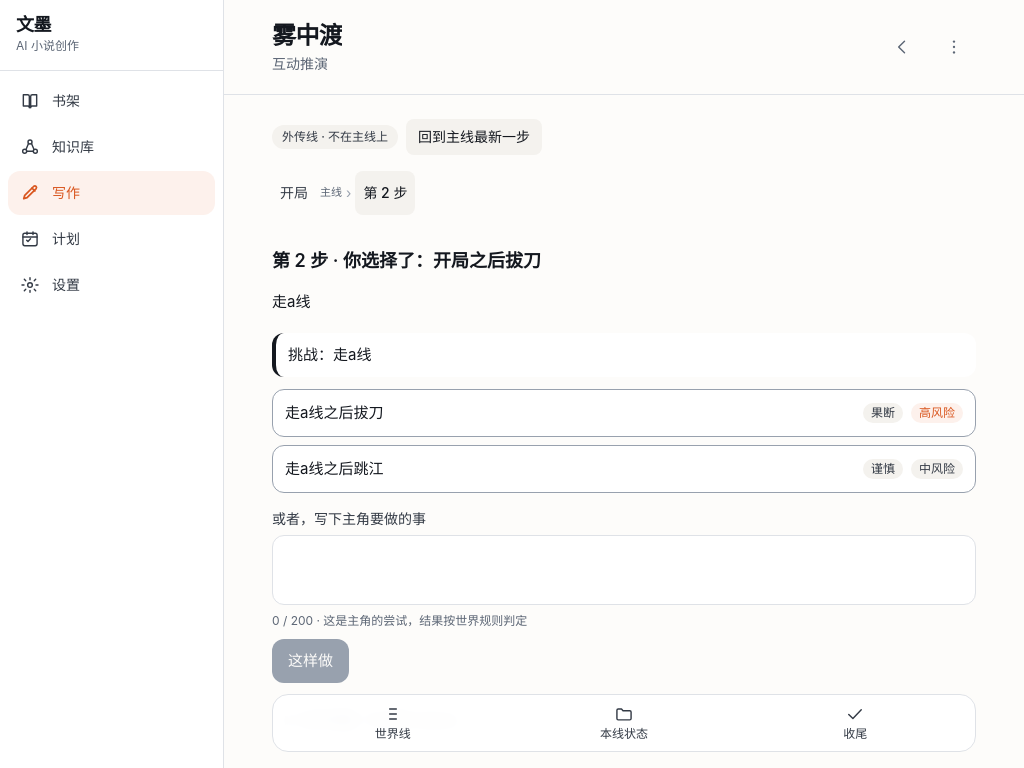
it: 主线徽标（验收 18） › 在旧线上显示「外传线 · 不在主线上」与「回到主线最新一步」；在旧线推进后变成主线
The image size is (1024, 768).
Expected: the text "外传线 · 不在主线上" is shown, left=272, top=125, right=398, bottom=149
Expected: the button "回到主线最新一步" is shown, left=406, top=119, right=542, bottom=155
Click the button "走a线之后拔刀 果断 高风险".
click(334, 413)  # box left=272, top=389, right=976, bottom=437
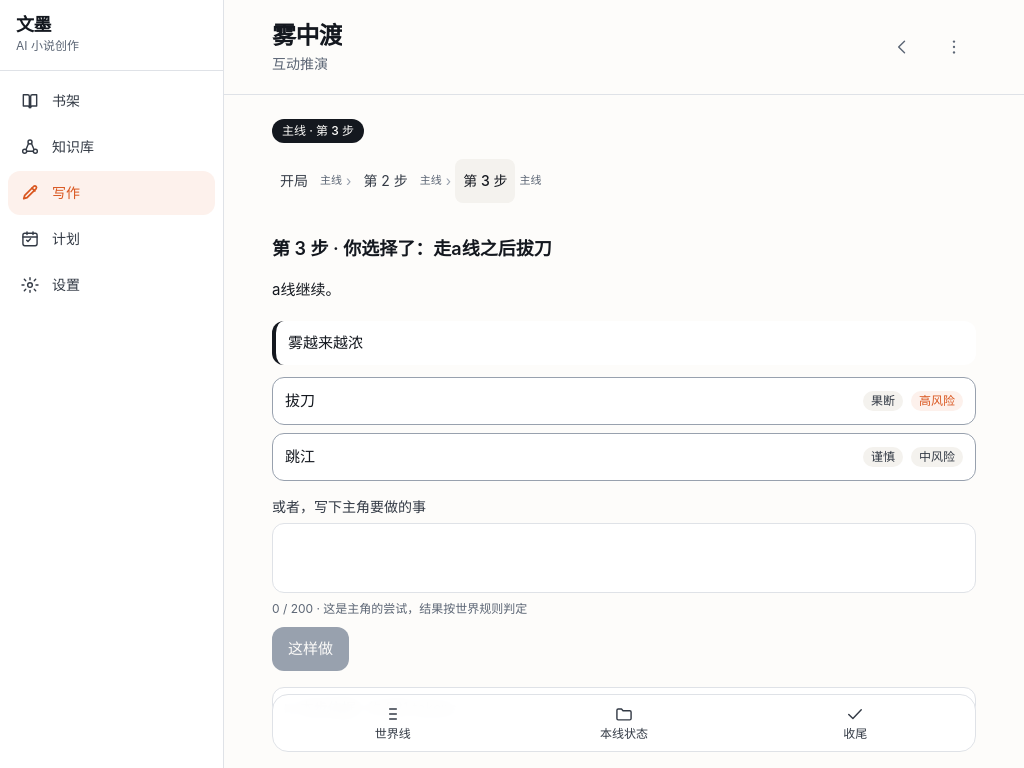
Expected: the text "主线 · 第 3 步" is shown, left=272, top=119, right=364, bottom=143
Expected: the button "回到主线最新一步" is gone
